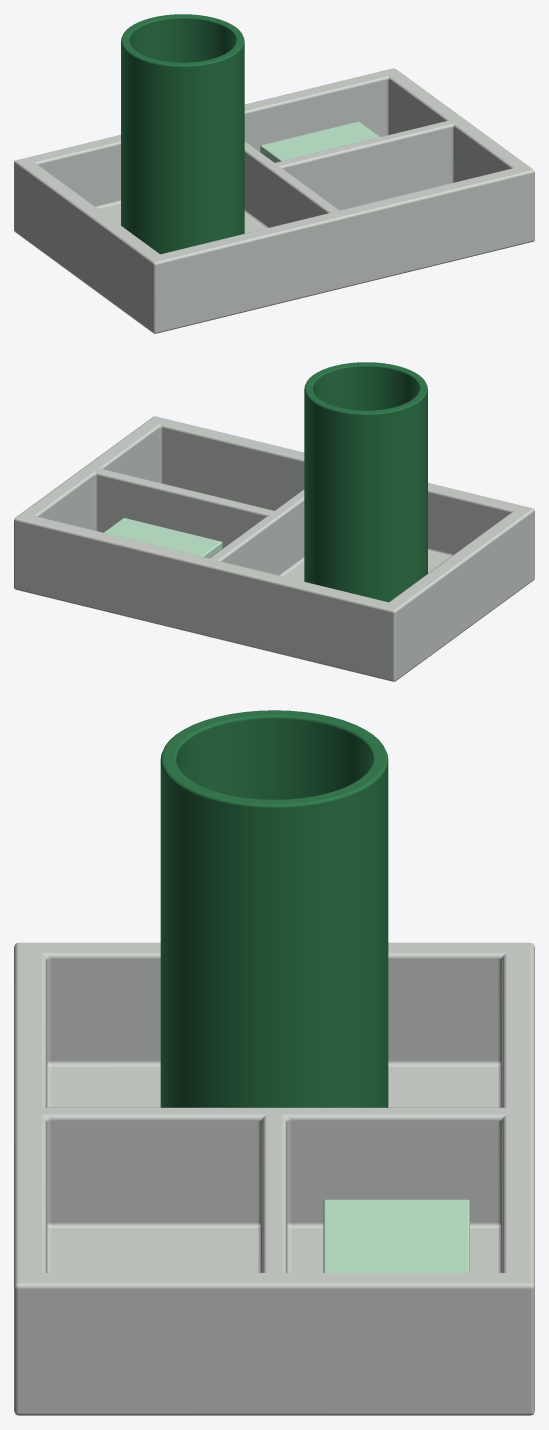
Rendered from organizer.glb.
3 renders of one model, top to bottom at view 1: azimuth 30°, elevation 25°; view 2: azimuth 150°, elevation 25°; view 3: azimuth 270°, elevation 25°, orthographic. The views are drawn at different scales.
Parts seen in each view (by area): view 1: Tray, PenCup, StickyNotes; view 2: Tray, PenCup, StickyNotes; view 3: Tray, PenCup, StickyNotes.
Boxes of the visible parts, bbox=[...] form: Tray: bbox=[14, 68, 534, 333]; PenCup: bbox=[121, 14, 244, 254]; StickyNotes: bbox=[260, 121, 379, 162]; Tray: bbox=[14, 416, 534, 681]; PenCup: bbox=[304, 362, 427, 602]; StickyNotes: bbox=[104, 518, 222, 558]; Tray: bbox=[14, 942, 534, 1415]; PenCup: bbox=[160, 710, 388, 1107]; StickyNotes: bbox=[323, 1199, 469, 1272].
Size of the model in its own units: 0.1 by 0.055 by 0.064.
